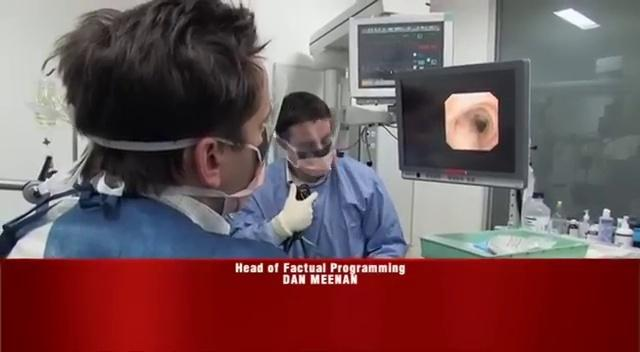doctor: (274, 93, 403, 257)
patient: (45, 0, 276, 255)
